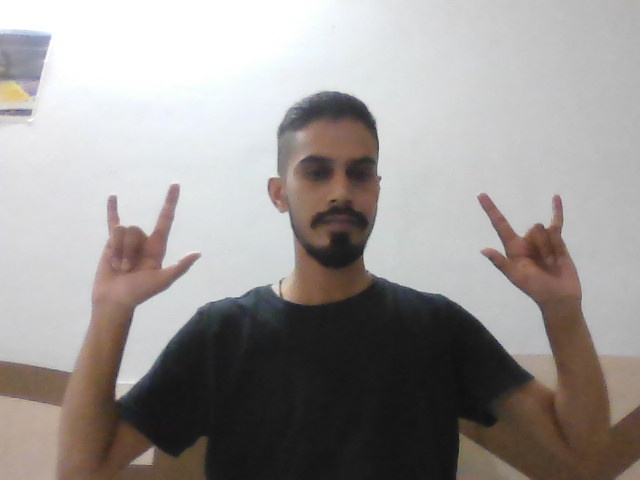ILoveYou: (469, 181, 610, 310), (77, 179, 205, 300)
